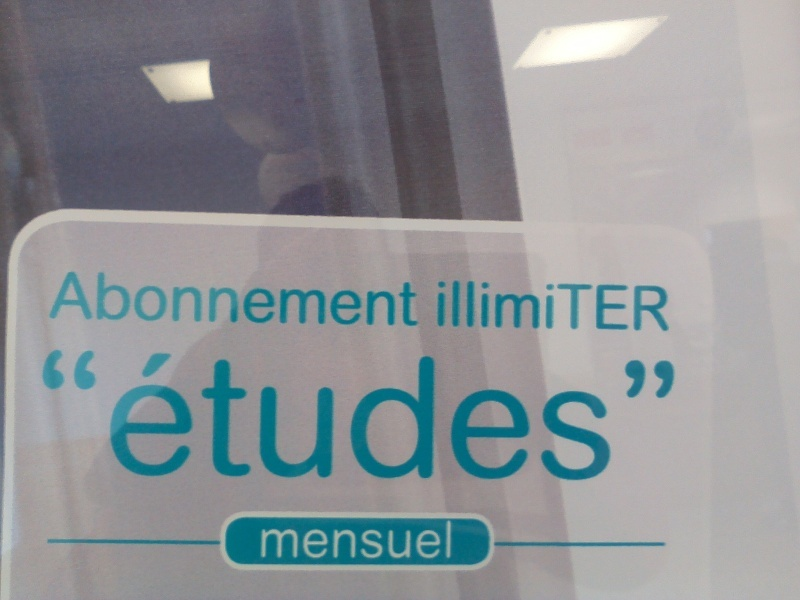text: (49, 345, 64, 484), (65, 345, 80, 484), (81, 345, 96, 484), (97, 345, 112, 484), (113, 345, 128, 484), (129, 345, 144, 484), (145, 345, 160, 484), (161, 345, 176, 484), (177, 345, 192, 484), (193, 345, 208, 484), (209, 345, 224, 484), (225, 345, 240, 484), (241, 345, 256, 484), (257, 345, 272, 484), (273, 345, 288, 484), (289, 345, 304, 484), (305, 345, 320, 484), (321, 345, 336, 484), (337, 345, 352, 484), (353, 345, 368, 484), (369, 345, 384, 484), (385, 345, 400, 484), (401, 345, 416, 484), (417, 345, 432, 484), (433, 345, 448, 484), (449, 345, 464, 484), (465, 345, 480, 484), (481, 345, 496, 484), (497, 345, 512, 484), (513, 345, 528, 484), (529, 345, 544, 484), (545, 345, 560, 484), (561, 345, 576, 484), (577, 345, 592, 484), (593, 345, 608, 484), (609, 345, 624, 484), (625, 345, 640, 484), (641, 345, 656, 484), (657, 345, 672, 484), (41, 345, 48, 484), (81, 268, 96, 329), (97, 268, 112, 329), (113, 268, 128, 329), (129, 268, 144, 329), (145, 268, 160, 329), (161, 268, 176, 329), (177, 268, 192, 329), (193, 268, 208, 329), (209, 268, 224, 329), (225, 268, 240, 329), (241, 268, 256, 329), (257, 268, 272, 329), (273, 268, 288, 329), (289, 268, 304, 329), (305, 268, 320, 329), (321, 268, 336, 329), (337, 268, 352, 329), (353, 268, 368, 329), (369, 268, 384, 329), (385, 268, 400, 329), (401, 268, 416, 329), (449, 274, 464, 332), (465, 274, 480, 332), (481, 274, 496, 332), (497, 274, 512, 332), (513, 274, 528, 332), (529, 274, 544, 332), (545, 274, 560, 332), (561, 274, 576, 332), (577, 274, 592, 332), (593, 274, 608, 332), (609, 274, 624, 332), (625, 274, 640, 332), (641, 274, 656, 332), (436, 274, 448, 332), (657, 274, 669, 332), (69, 268, 80, 329), (273, 521, 288, 561), (289, 521, 304, 561), (305, 521, 320, 561), (321, 521, 336, 561), (337, 521, 352, 561), (353, 521, 368, 561), (369, 521, 384, 561), (385, 521, 400, 561), (401, 521, 416, 561), (417, 521, 432, 561), (433, 521, 448, 561), (259, 521, 272, 561), (673, 345, 676, 484), (417, 268, 420, 329), (449, 521, 452, 561)
